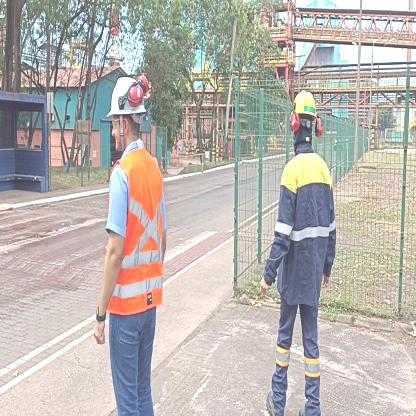Balaclava: (292, 117, 314, 150)
C_eletrica: (266, 158, 336, 303)
Capacete: (107, 70, 147, 118), (291, 87, 320, 120)
colete: (106, 151, 167, 319)
